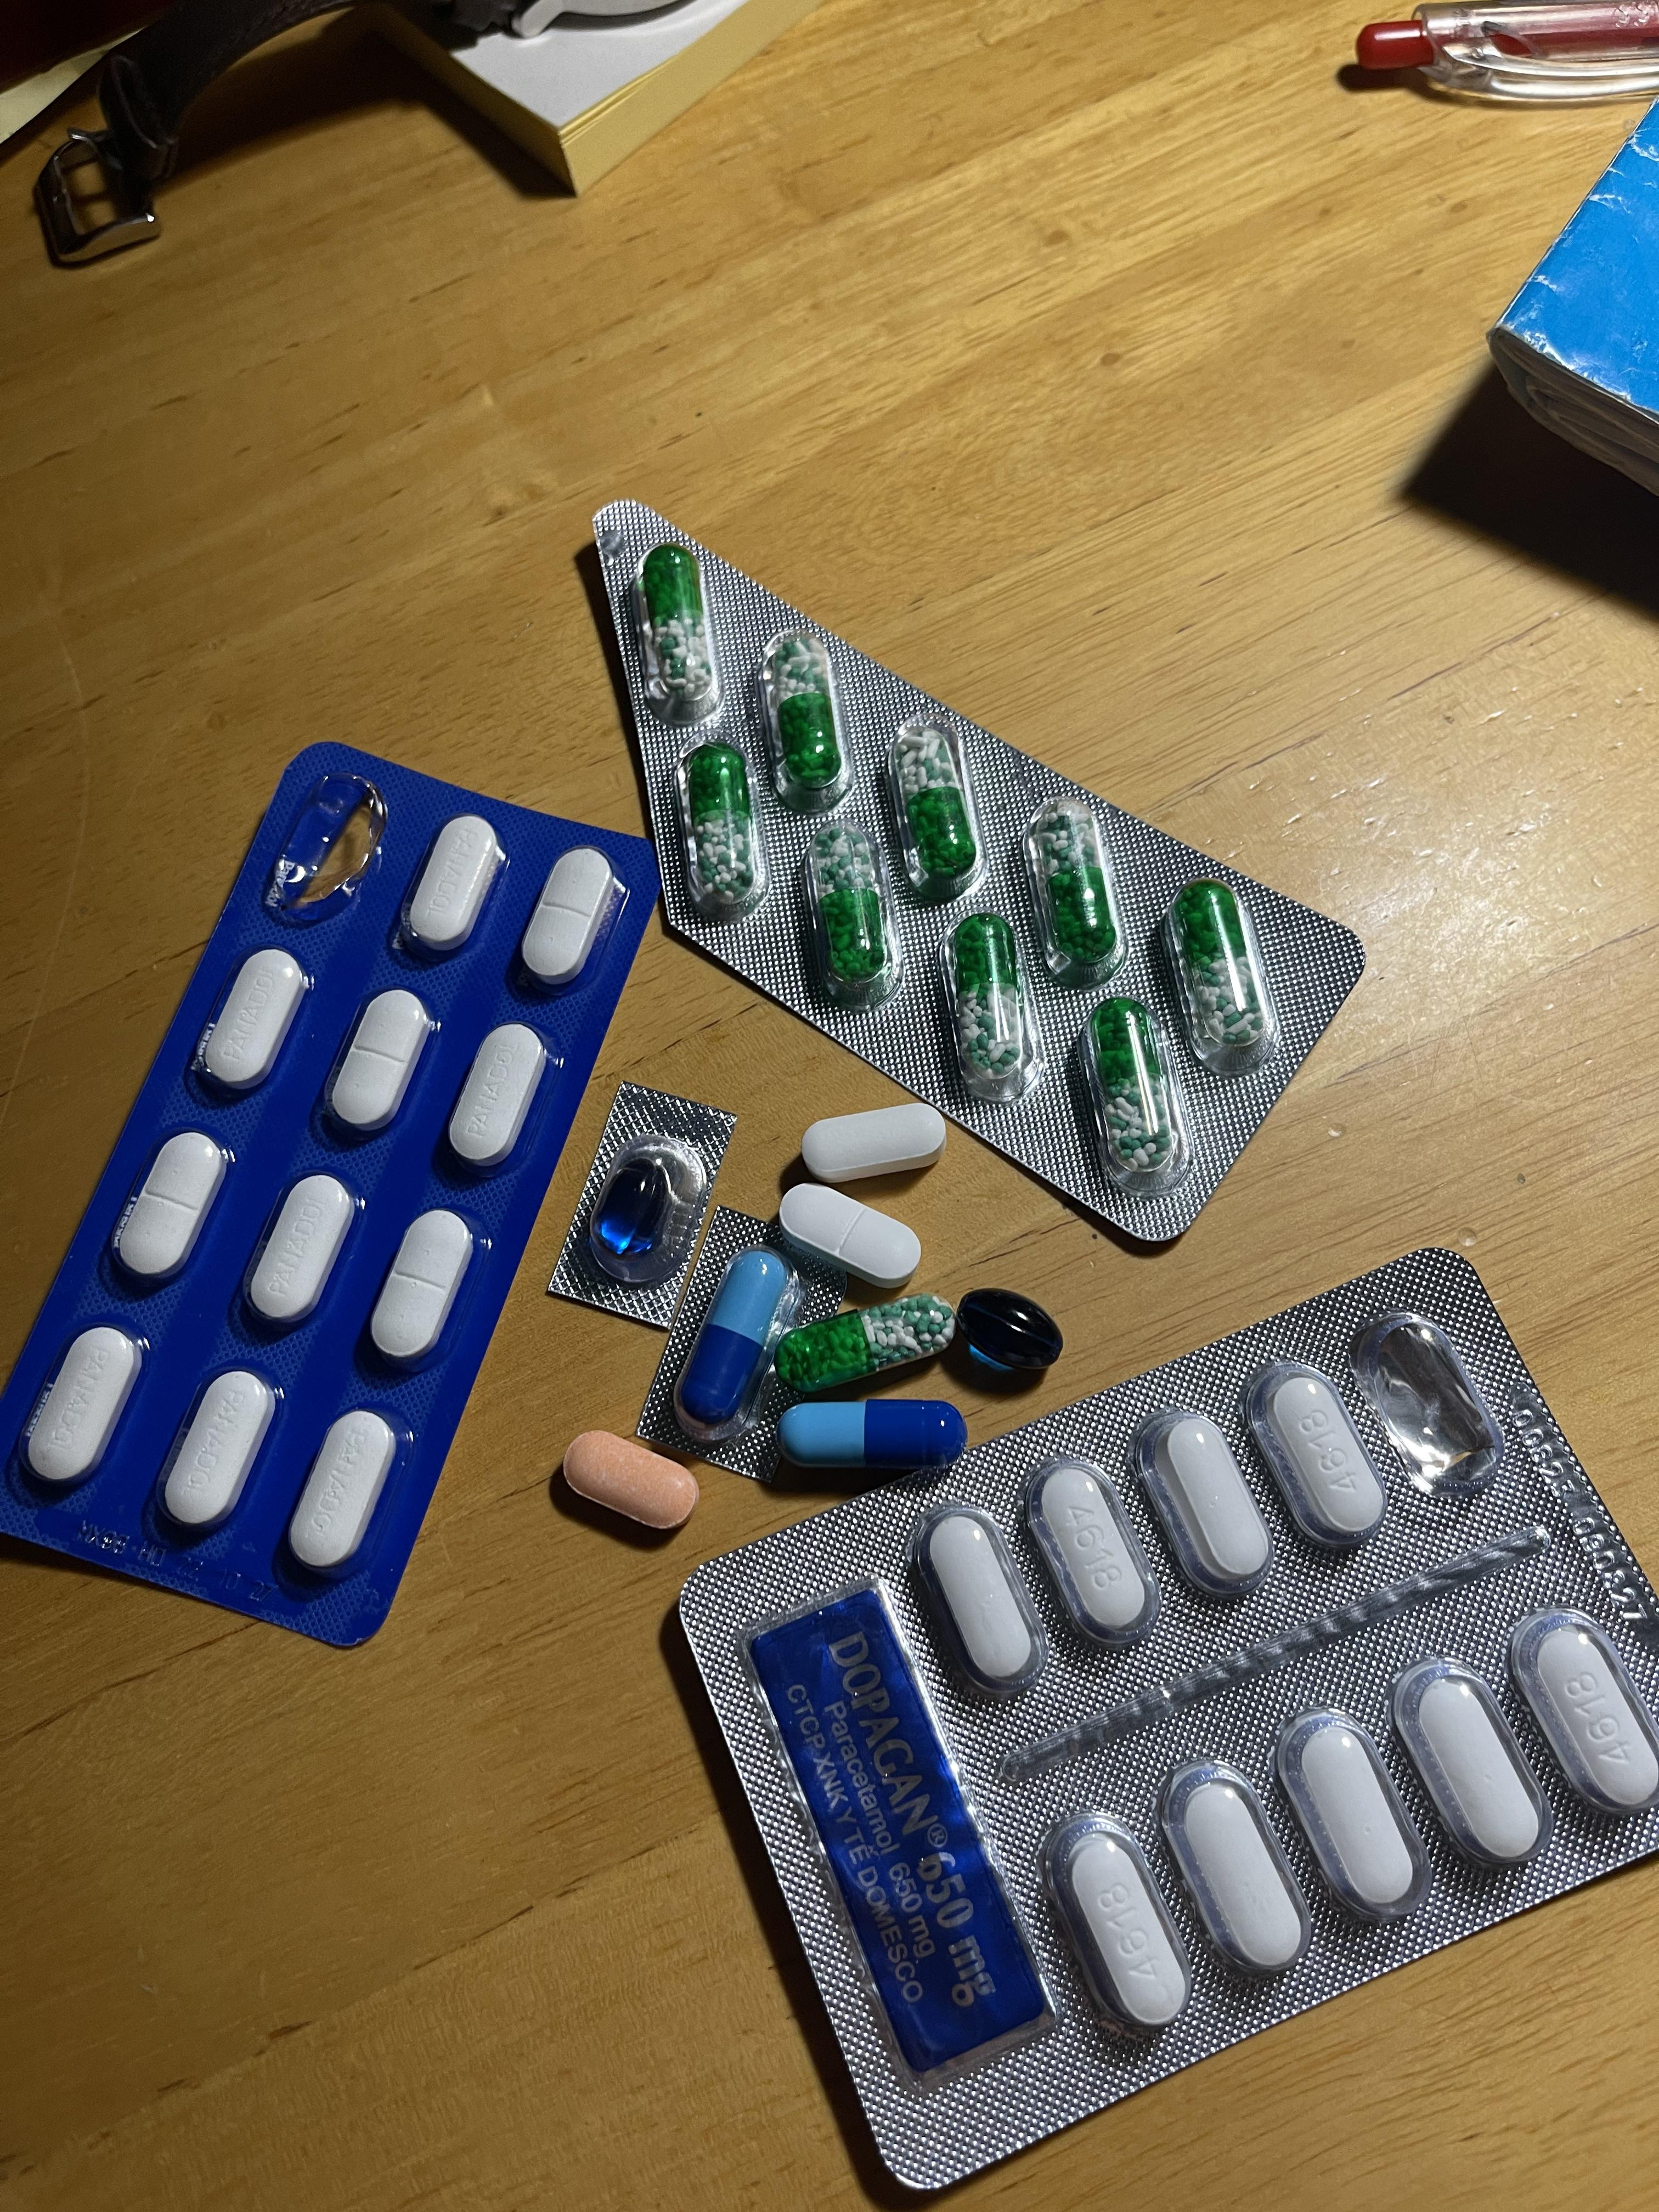Lincomyxin_500mg: (953, 1287, 1065, 1376), (594, 1162, 671, 1256)
Loratadine_10mg: (561, 1430, 704, 1529)
Paracetamol_350mg: (24, 1324, 143, 1489), (159, 1369, 277, 1533), (288, 1409, 399, 1573), (119, 1129, 230, 1284), (247, 1172, 357, 1329), (195, 949, 308, 1101), (326, 988, 432, 1139), (371, 1211, 472, 1369), (781, 1181, 922, 1291), (399, 815, 505, 958), (446, 1022, 549, 1169), (521, 848, 624, 991)
Paracetamol_500mg: (1507, 1609, 1659, 1825), (1039, 1808, 1175, 2038), (1127, 1407, 1265, 1611), (1248, 1367, 1389, 1561), (1295, 1721, 1413, 1912), (1413, 1676, 1537, 1858), (1178, 1778, 1293, 1972), (925, 1510, 1033, 1681), (1040, 1467, 1140, 1629), (802, 1103, 946, 1177)
Paracetamol_650mg: (1168, 878, 1274, 1071), (1073, 998, 1176, 1188), (938, 909, 1037, 1097), (1025, 794, 1124, 979), (781, 1292, 953, 1393), (887, 725, 985, 900), (802, 819, 890, 1007), (762, 643, 849, 806), (640, 547, 716, 726), (681, 744, 762, 914)
pill: (676, 1247, 786, 1433), (786, 1407, 964, 1474)
